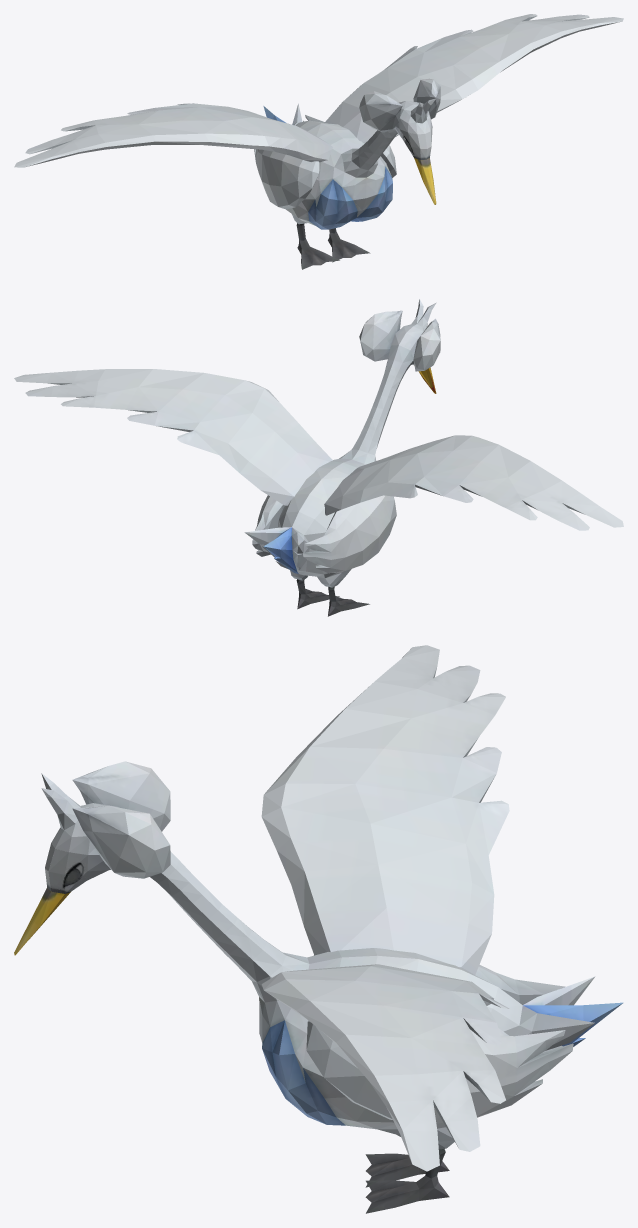
3 renders of one model, top to bottom at view 1: azimuth 30°, elevation 25°; view 2: azimuth 150°, elevation 25°; view 3: azimuth 270°, elevation 25°, orthographic. The views are drawn at different scales.
Parts seen in each view (by area): view 1: Object_2, Object_3; view 2: Object_2; view 3: Object_2, Object_3.
Boxes of the visible parts, left/top/right/bottom form: Object_2: left=14, top=14, right=623, bottom=269; Object_3: left=399, top=127, right=432, bottom=159; Object_2: left=14, top=299, right=623, bottom=616; Object_2: left=14, top=645, right=623, bottom=1213; Object_3: left=48, top=848, right=87, bottom=893.
Size of the model in its own units: 29.66 by 10.61 by 14.52.
Materials: 2 (2 with a texture image).
